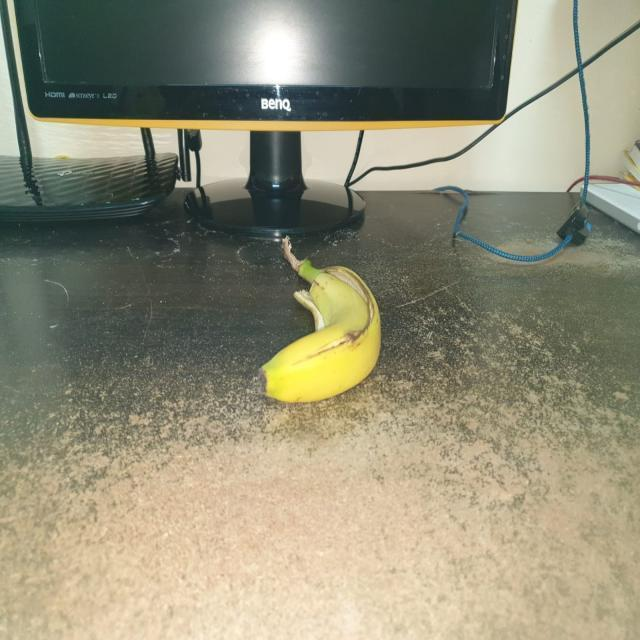banana-peel: (258, 235, 382, 403)
